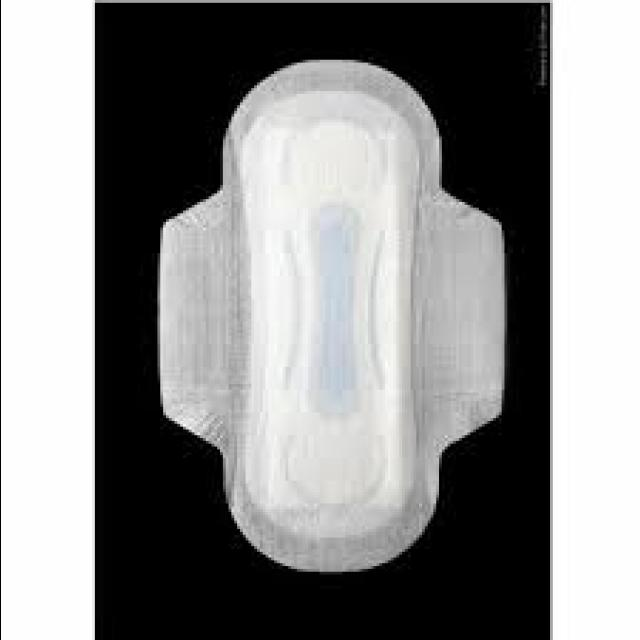napkin: (162, 62, 503, 571)
